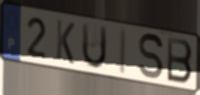2: (26, 16, 48, 61)
B: (166, 35, 194, 86)
I: (117, 27, 129, 77)
K: (55, 18, 76, 67)
S: (138, 31, 165, 81)
U: (80, 21, 109, 71)
